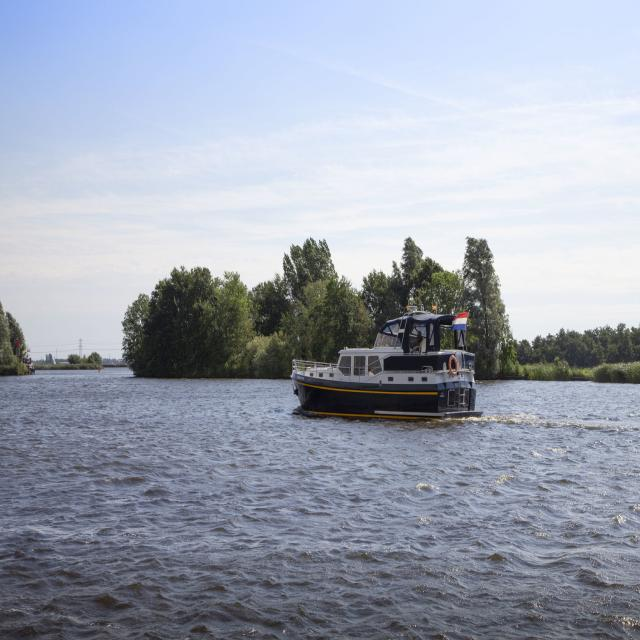houseboat: (276, 302, 474, 418)
